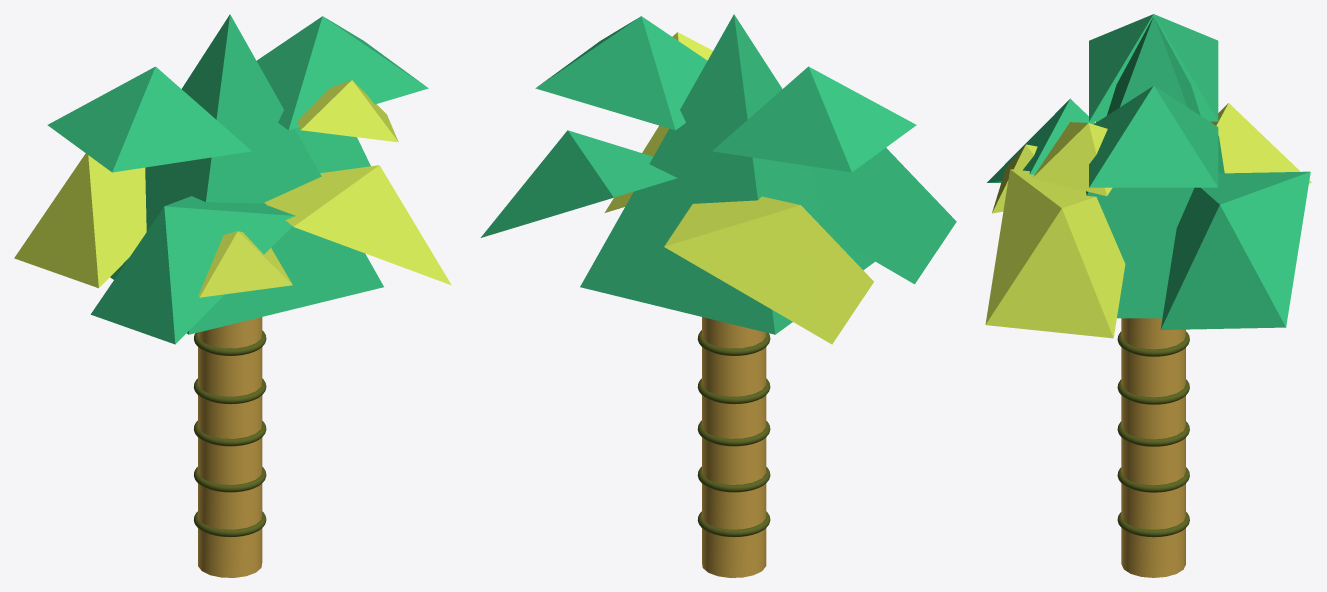
Rendered from PalmTree.gltf.
3 renders of one model, left to right at view 1: azimuth 30°, elevation 25°; view 2: azimuth 150°, elevation 25°; view 3: azimuth 270°, elevation 25°, orthographic.
Parts seen in each view (by area): view 1: Pyramid, Pyramid.3, Cylinder, Pyramid.1, Pyramid.8, Pyramid.4, Pyramid.2, Pyramid.6, Pyramid.5, Pyramid.7, Torus.1, Torus (+3 smaller); view 2: Pyramid, Pyramid.8, Cylinder, Pyramid.1, Pyramid.3, Pyramid.2, Pyramid.7, Pyramid.4, Torus.4, Torus, Torus.1, Torus.3 (+1 smaller); view 3: Pyramid.7, Pyramid.4, Cylinder, Pyramid, Pyramid.2, Pyramid.1, Pyramid.8, Pyramid.5, Pyramid.3, Pyramid.6, Torus.4, Torus.3 (+3 smaller).
Boxes of the visible parts, x1,y1,x2,y2 form: Pyramid: [110, 14, 383, 334]; Pyramid.3: [90, 196, 295, 344]; Cylinder: [198, 317, 262, 577]; Pyramid.1: [47, 66, 251, 172]; Pyramid.8: [14, 153, 146, 288]; Pyramid.4: [264, 165, 451, 285]; Pyramid.2: [257, 16, 428, 130]; Pyramid.6: [198, 231, 292, 297]; Pyramid.5: [297, 80, 398, 142]; Pyramid.7: [295, 127, 370, 173]; Torus.1: [194, 420, 266, 446]; Torus: [193, 378, 266, 404]; Pyramid: [580, 14, 874, 334]; Pyramid.8: [664, 196, 873, 344]; Cylinder: [702, 317, 766, 577]; Pyramid.1: [712, 66, 916, 172]; Pyramid.3: [812, 148, 956, 284]; Pyramid.2: [535, 16, 707, 130]; Pyramid.7: [480, 130, 677, 237]; Pyramid.4: [604, 125, 668, 212]; Torus.4: [697, 511, 770, 537]; Torus: [697, 378, 770, 404]; Torus.1: [697, 420, 770, 446]; Torus.3: [697, 466, 770, 492]; Pyramid.7: [1160, 171, 1310, 329]; Pyramid.4: [985, 169, 1125, 338]; Cylinder: [1121, 318, 1185, 577]; Pyramid: [1086, 16, 1224, 318]; Pyramid.2: [1089, 85, 1218, 187]; Pyramid.1: [1089, 14, 1218, 121]; Pyramid.8: [1211, 103, 1311, 183]; Pyramid.5: [1032, 122, 1112, 196]; Pyramid.3: [987, 98, 1095, 182]; Pyramid.6: [992, 144, 1037, 213]; Torus.4: [1117, 512, 1189, 537]; Torus.3: [1117, 467, 1189, 492].
Bounding box in the file's own units: 618 × 936 × 506.
